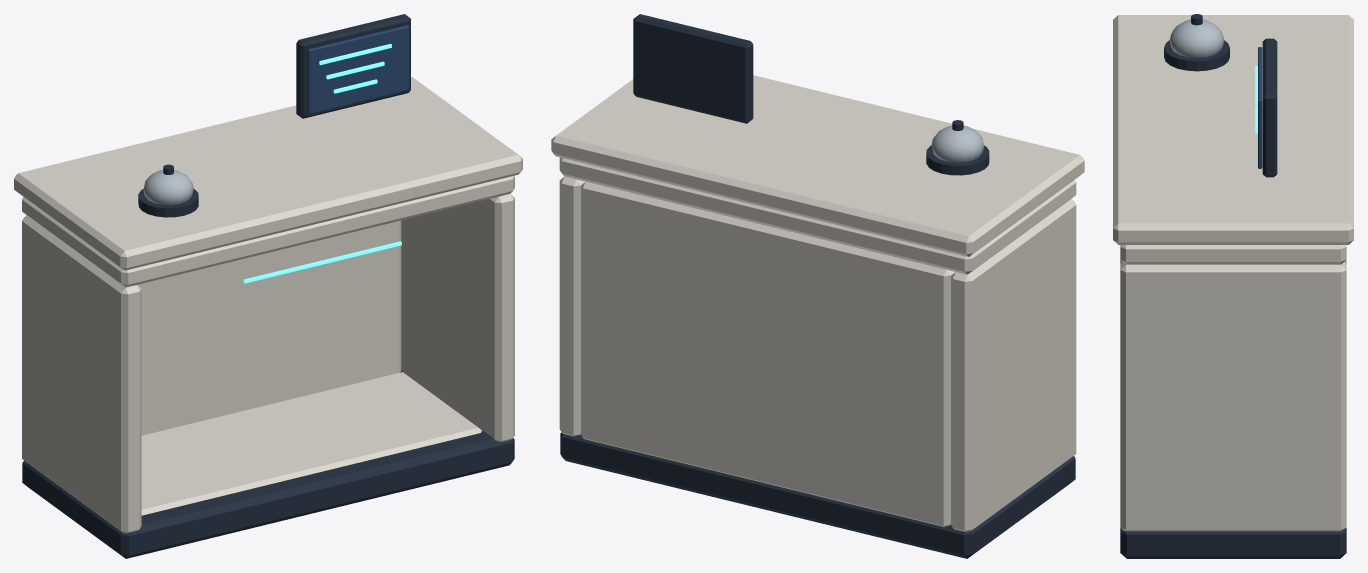
File: retail_09.glb
3 views of the same model, side by side, from view 1: azimuth 30°, elevation 25°; view 2: azimuth 150°, elevation 25°; view 3: azimuth 270°, elevation 25° (orthographic). The views are drawn at different scales.
Visible parts, largest first — view 1: Side (×2), CounterTop, Back, Bottom, Base, Top, Screen, MonitorFrame, BellDome, BellBase, StatusLight; view 2: Back, CounterTop, Side (×2), Base, MonitorFrame, Top, BellDome, BellBase; view 3: Side, CounterTop, Base, Top, MonitorFrame, BellDome, BellBase, Screen.
Part boxes in pixels (left/top/right/bottom): Side (×2): left=22, top=194, right=514, bottom=533; CounterTop: left=14, top=77, right=522, bottom=270; Back: left=137, top=220, right=401, bottom=435; Bottom: left=141, top=372, right=482, bottom=515; Base: left=22, top=371, right=514, bottom=558; Top: left=22, top=175, right=514, bottom=287; Screen: left=307, top=25, right=409, bottom=114; MonitorFrame: left=296, top=14, right=410, bottom=118; BellDome: left=143, top=169, right=193, bottom=205; BellBase: left=138, top=189, right=198, bottom=217; StatusLight: left=243, top=241, right=401, bottom=283; Back: left=581, top=181, right=954, bottom=526; CounterTop: left=551, top=75, right=1084, bottom=256; Side (×2): left=559, top=176, right=1076, bottom=532; Base: left=560, top=432, right=1075, bottom=558; MonitorFrame: left=633, top=14, right=753, bottom=123; Top: left=559, top=157, right=1076, bottom=274; BellDome: left=931, top=125, right=983, bottom=162; BellBase: left=926, top=145, right=989, bottom=175; Side: left=1120, top=262, right=1346, bottom=531; CounterTop: left=1113, top=15, right=1353, bottom=244; Base: left=1120, top=528, right=1346, bottom=558; Top: left=1120, top=245, right=1346, bottom=264; MonitorFrame: left=1262, top=38, right=1277, bottom=177; BellDome: left=1169, top=19, right=1224, bottom=57; BellBase: left=1164, top=40, right=1229, bottom=71; Screen: left=1258, top=47, right=1262, bottom=168.
Size of the model in its own units: 1.38 by 1.35 by 0.66.
